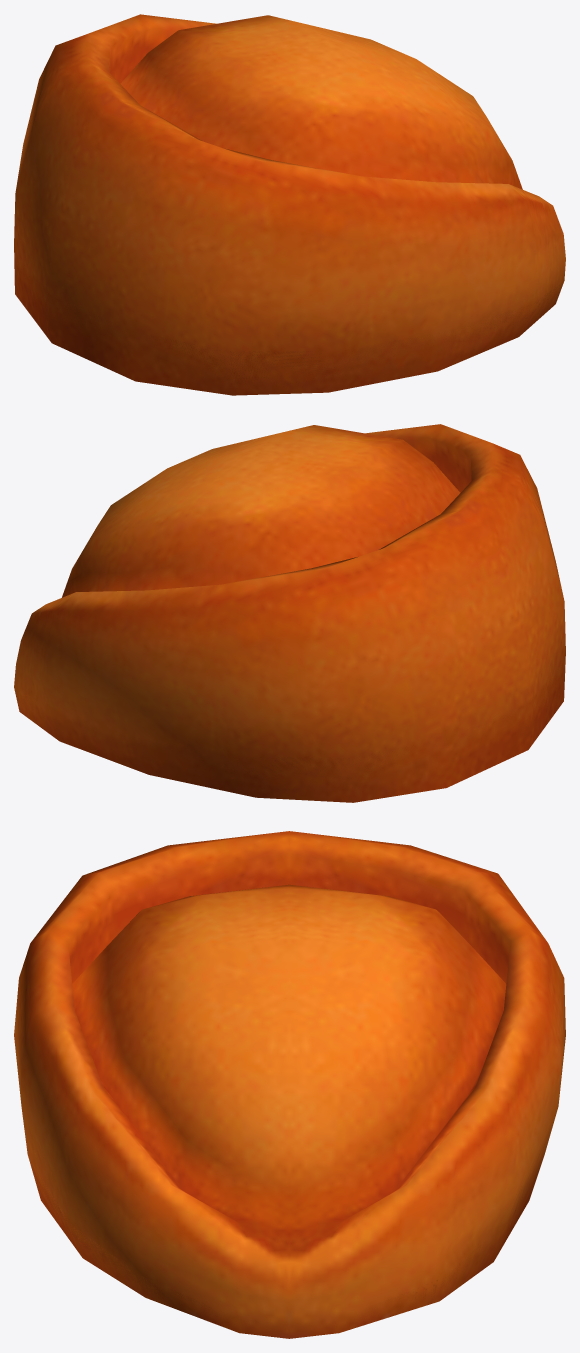
Rendered from hat_0450050.FBX.
The picture shows the model from 3 angles, top to bottom: view 1: azimuth 30°, elevation 25°; view 2: azimuth 150°, elevation 25°; view 3: azimuth 270°, elevation 25°; orthographic projection. The views are drawn at different scales.
Parts seen in each view (by area): view 1: hat_0450050; view 2: hat_0450050; view 3: hat_0450050.
Boxes of the visible parts, bbox=[...] form: hat_0450050: bbox=[14, 14, 565, 395]; hat_0450050: bbox=[14, 424, 565, 802]; hat_0450050: bbox=[14, 831, 565, 1338].
Size of the model in its own units: 25.19 by 13.13 by 22.54.
